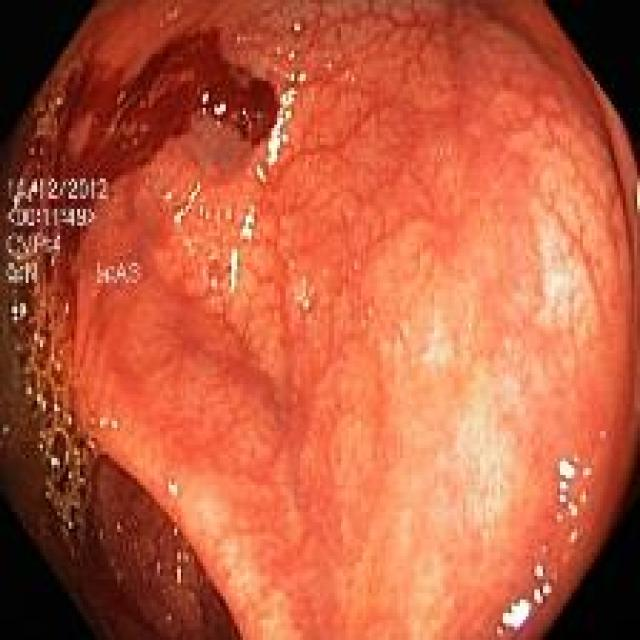ulcerative-colitis-grade-0-1: (5, 19, 588, 640)
